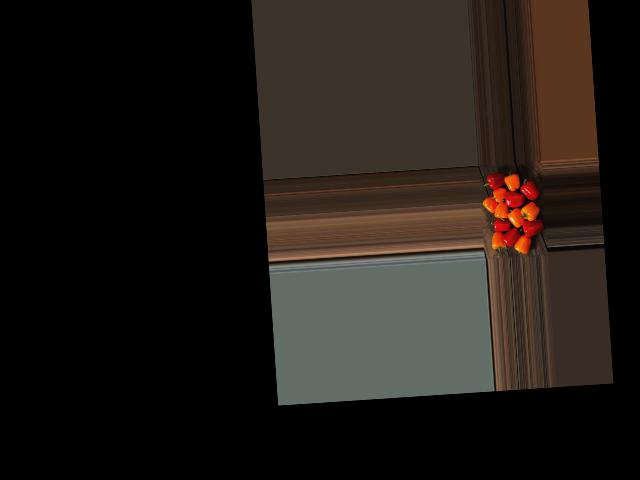bell_pepper: (513, 229, 535, 255)
